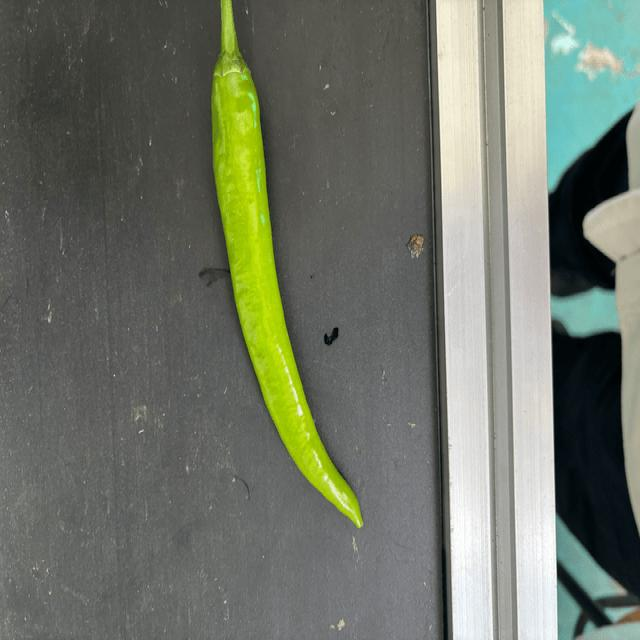chili: (209, 55, 365, 529)
